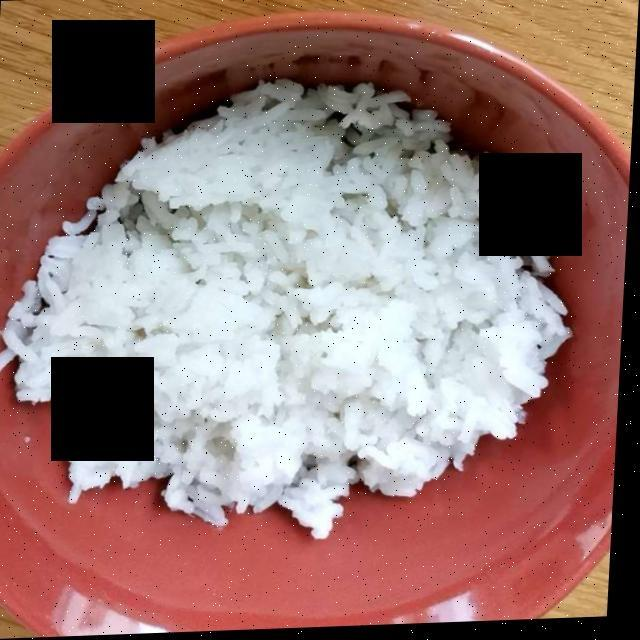rice: (7, 79, 561, 521)
